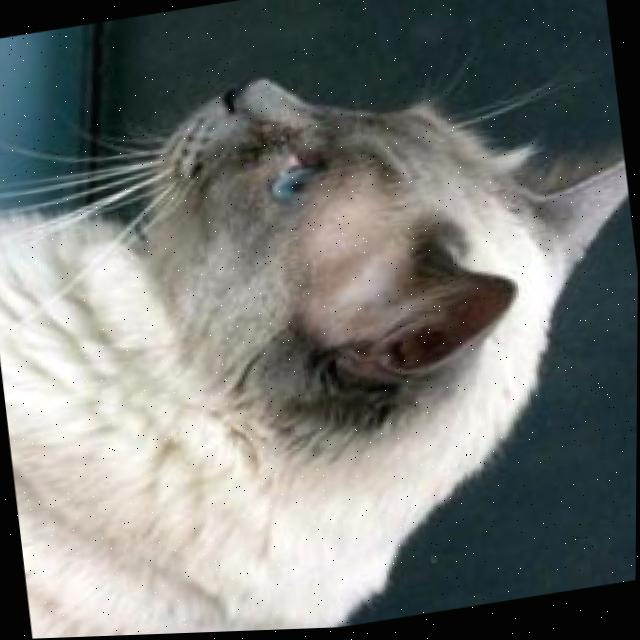Birman: (0, 14, 640, 640)
